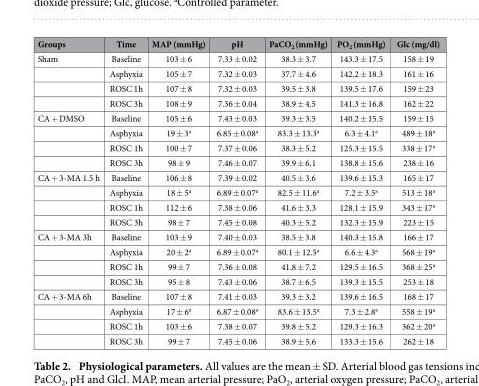table: (36, 37, 439, 346)
table column: (262, 37, 331, 346), (36, 37, 103, 346), (146, 37, 210, 346), (331, 37, 390, 346), (210, 37, 262, 346), (390, 37, 439, 346), (103, 37, 146, 346)
table column header: (36, 37, 439, 51)
table row: (36, 65, 439, 80), (36, 80, 439, 95), (36, 95, 439, 110), (36, 110, 439, 125), (36, 139, 439, 154), (36, 154, 439, 169), (36, 169, 439, 184), (36, 184, 439, 199), (36, 199, 439, 214), (36, 214, 439, 229), (36, 243, 439, 258), (36, 258, 439, 273), (36, 273, 439, 288), (36, 288, 439, 303), (36, 303, 439, 318), (36, 318, 439, 333), (36, 37, 439, 51), (36, 51, 439, 65), (36, 125, 439, 139), (36, 229, 439, 243), (36, 333, 439, 346)
table spanning cell: (36, 169, 103, 229), (36, 51, 103, 110), (36, 110, 103, 169), (36, 229, 103, 288), (36, 288, 103, 346)
